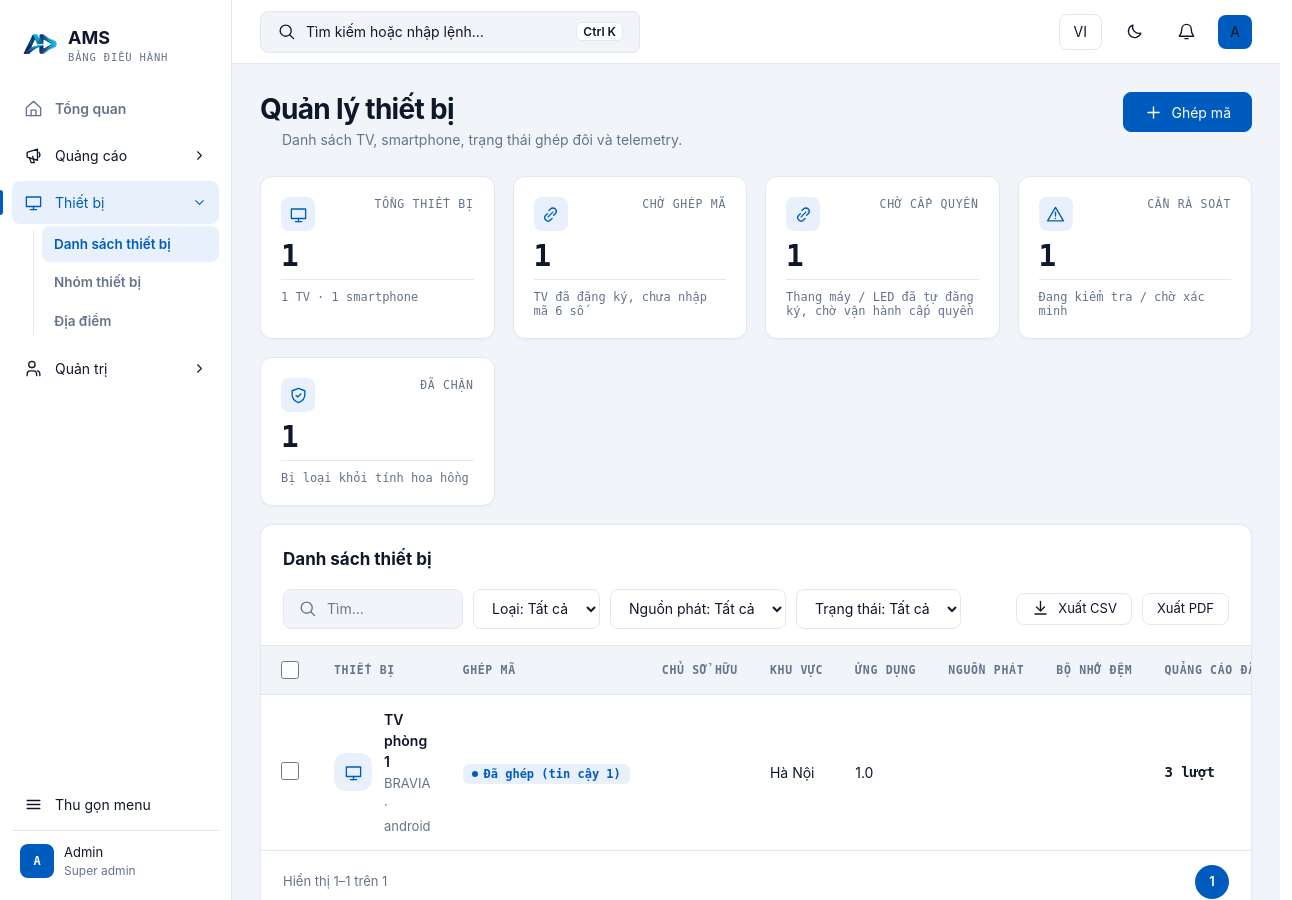
Test: Devices: xoa thiet bi › khong co devices:delete -> khong co nut Xoa o thao tac hang loat
Expected: the text "TV phòng 1" is shown, [384, 708, 430, 772]
What coordinates should you click on to do the following:
click the checkbox named "select"
I would click on:
 (290, 771)
Its box is [281, 762, 299, 780].
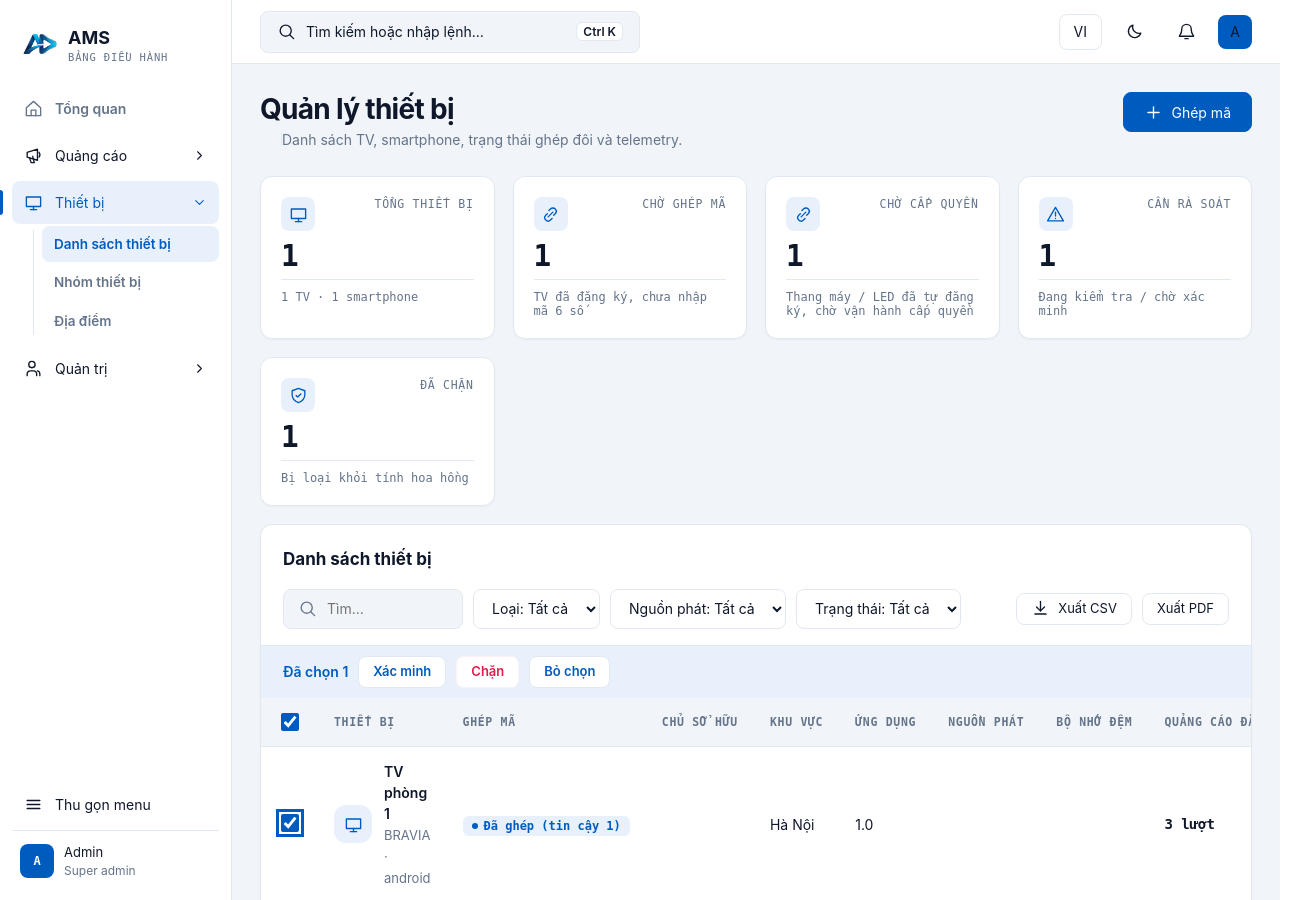
Expected: the button "Chặn" is shown, [456, 656, 519, 688]
